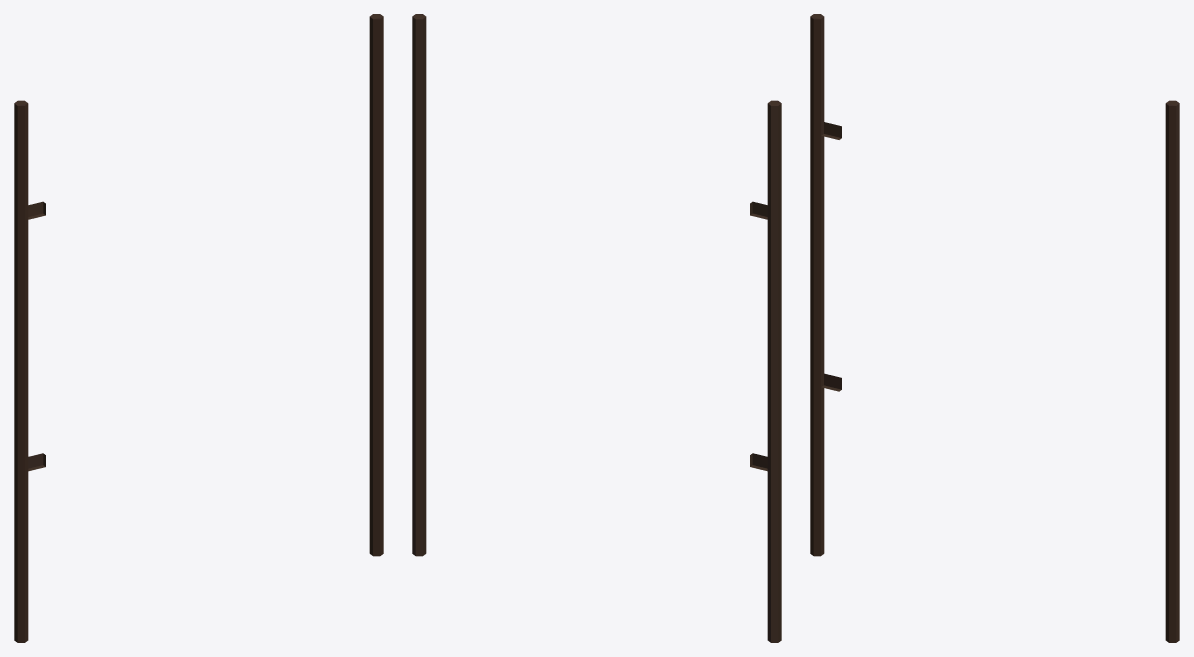
Rendered from lf_metal_fence_gate_posts.glb.
3 renders of one model, left to right at view 1: azimuth 30°, elevation 25°; view 2: azimuth 150°, elevation 25°; view 3: azimuth 330°, elevation 25°, orthographic.
Parts seen in each view (by area): view 1: metalfence_gate_only_sides; view 2: metalfence_gate_only_sides; view 3: metalfence_gate_only_sides.
Part boxes in pixels (x1,y1,x2,y2): metalfence_gate_only_sides: (14, 14, 383, 642); metalfence_gate_only_sides: (412, 14, 781, 642); metalfence_gate_only_sides: (810, 14, 1179, 642).
Size of the model in its own units: 1.19 by 1.67 by 0.0401.
